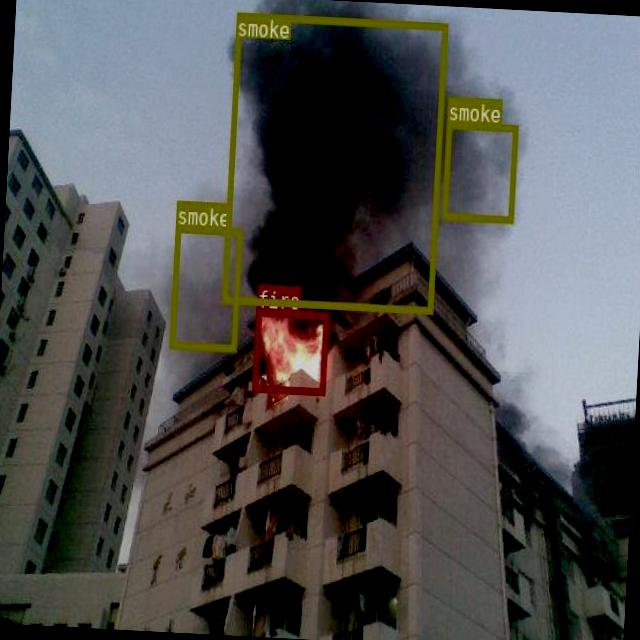fire: (252, 308, 328, 395)
smoke: (220, 10, 448, 312), (170, 225, 242, 351), (441, 121, 517, 222)
